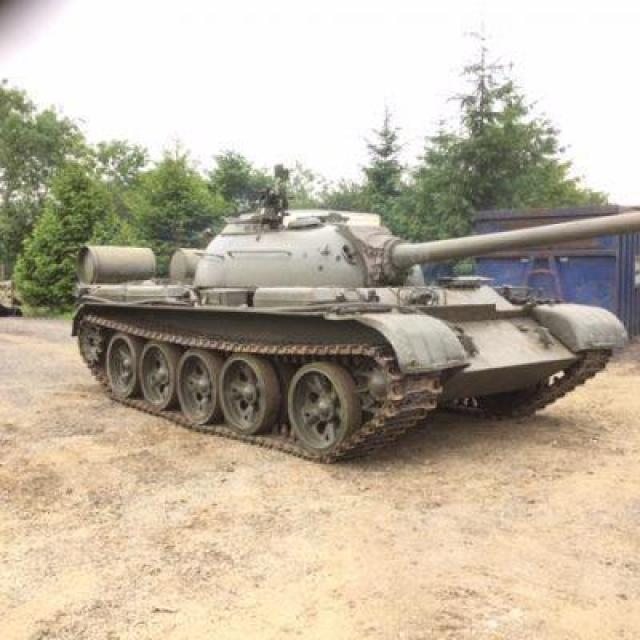Tanks: (50, 160, 632, 515)
